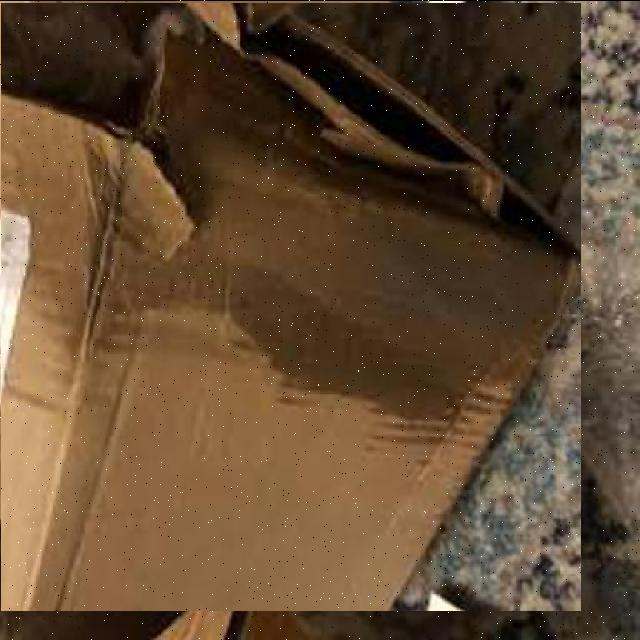defect: (1, 2, 582, 610)
